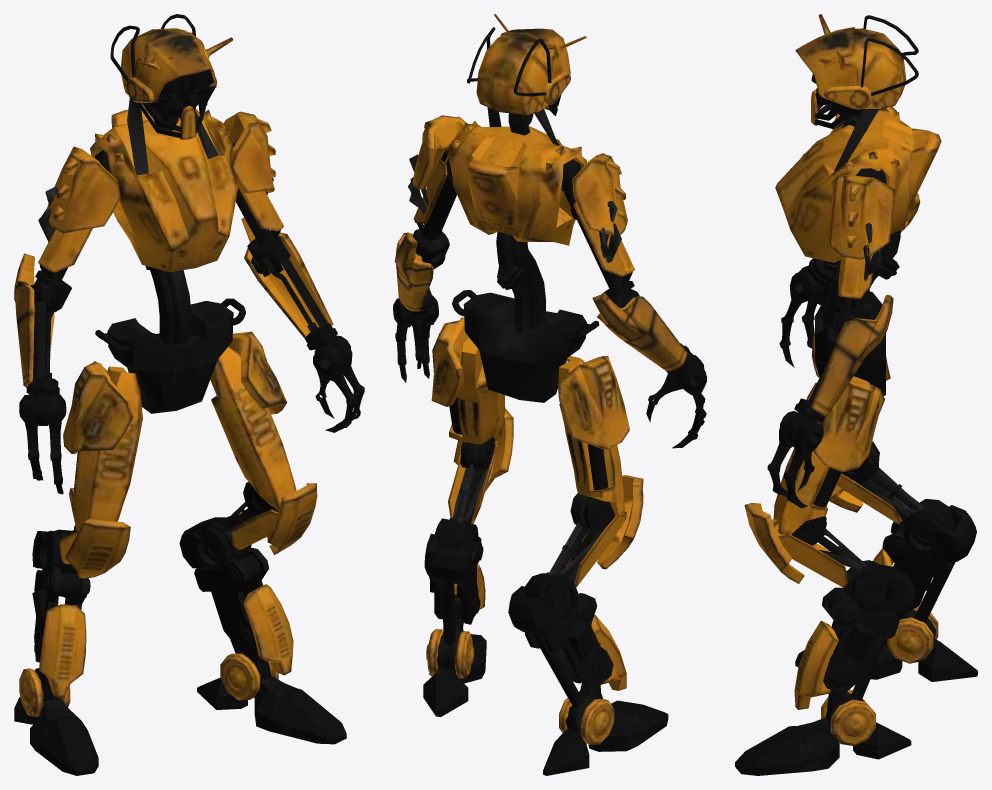
The model's file is npc-biped.glb.
3 views of the same model, side by side, from view 1: azimuth 30°, elevation 25°; view 2: azimuth 150°, elevation 25°; view 3: azimuth 270°, elevation 25° (orthographic). The views are drawn at different scales.
Parts seen in each view (by area): view 1: Object_8_baked, Object_7_baked, Object_9_baked; view 2: Object_8_baked, Object_7_baked, Object_9_baked; view 3: Object_8_baked, Object_7_baked, Object_9_baked.
Boxes of the visible parts, x1,y1,x2,y2 form: Object_8_baked: (14,28,333,716); Object_7_baked: (14,14,364,775); Object_9_baked: (38,98,273,536); Object_8_baked: (394,14,687,744); Object_7_baked: (393,27,706,775); Object_9_baked: (408,107,621,575); Object_8_baked: (744,14,941,746); Object_7_baked: (735,15,977,775); Object_9_baked: (818,109,923,570).
Size of what is drawn, in the model's own units: 82.49 by 167 by 53.3.
3 materials, 3 textured.
